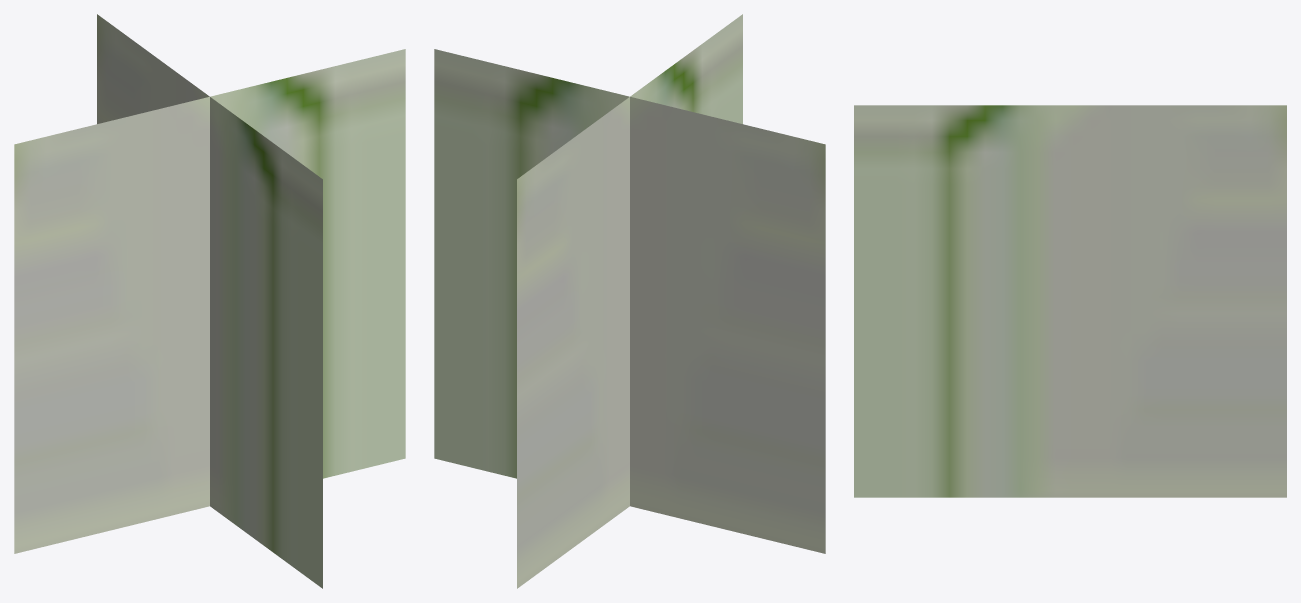
File: Foliage02_Flower_LowPoly_AnnaMetreveli.fbx
3 renders of one model, left to right at view 1: azimuth 30°, elevation 25°; view 2: azimuth 150°, elevation 25°; view 3: azimuth 270°, elevation 25°, orthographic. The views are drawn at different scales.
Visible parts, largest first — view 1: Flower01, Flower02; view 2: Flower01, Flower02; view 3: Flower02.
Part boxes in pixels (x1,y1,x2,y2): Flower01: (14,49,405,553); Flower02: (97,14,322,588); Flower01: (434,49,825,553); Flower02: (517,14,742,588); Flower02: (854,105,1286,497).
Size of the model in its own units: 50 by 50 by 50.
Materials: 1 (1 with a texture image).
